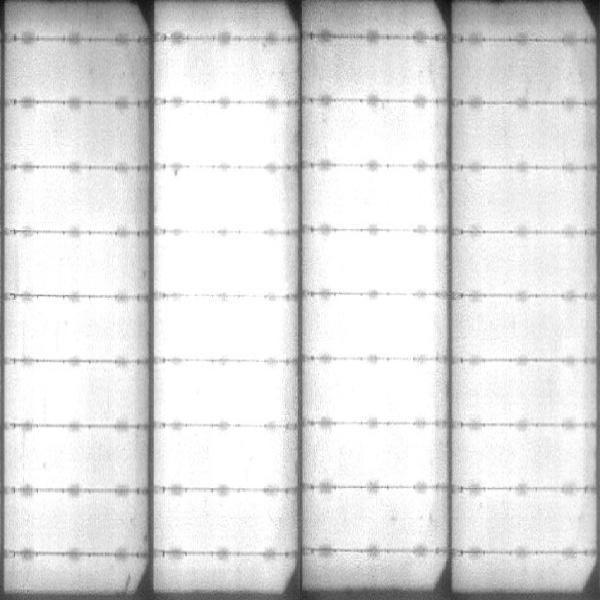hot_spot: (164, 177, 284, 227), (168, 303, 278, 355), (173, 370, 279, 422), (326, 175, 436, 223), (326, 305, 435, 353), (328, 239, 436, 287), (166, 244, 283, 288), (328, 366, 430, 416), (333, 430, 436, 479), (170, 113, 273, 161), (174, 436, 280, 480), (180, 495, 278, 542), (337, 124, 427, 159)
